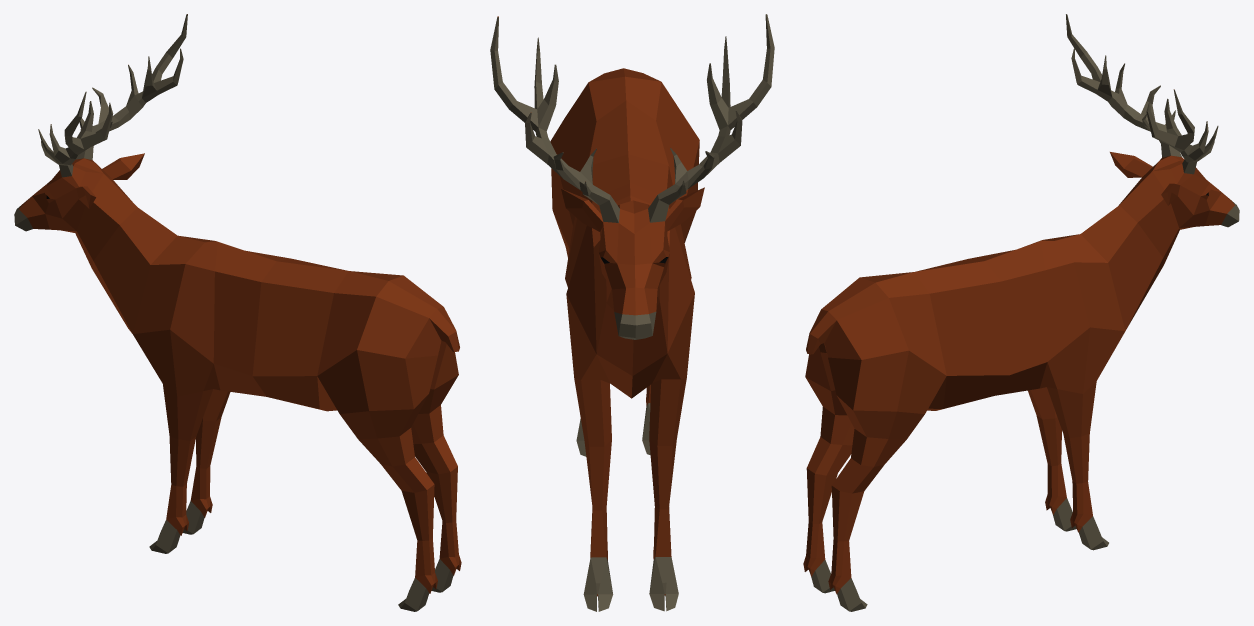
The model's file is deer.obj.
3 renders of one model, left to right at view 1: azimuth 30°, elevation 25°; view 2: azimuth 150°, elevation 25°; view 3: azimuth 270°, elevation 25°, orthographic. The views are drawn at different scales.
Visible parts, largest first — view 1: ORIGAMI_Cerf; view 2: ORIGAMI_Cerf; view 3: ORIGAMI_Cerf.
Part boxes in pixels (x1,y1,x2,y2): ORIGAMI_Cerf: (14,14,461,611); ORIGAMI_Cerf: (490,14,774,611); ORIGAMI_Cerf: (803,14,1239,611).
Bounding box in the file's own units: 3.46 × 5.69 × 4.74.
